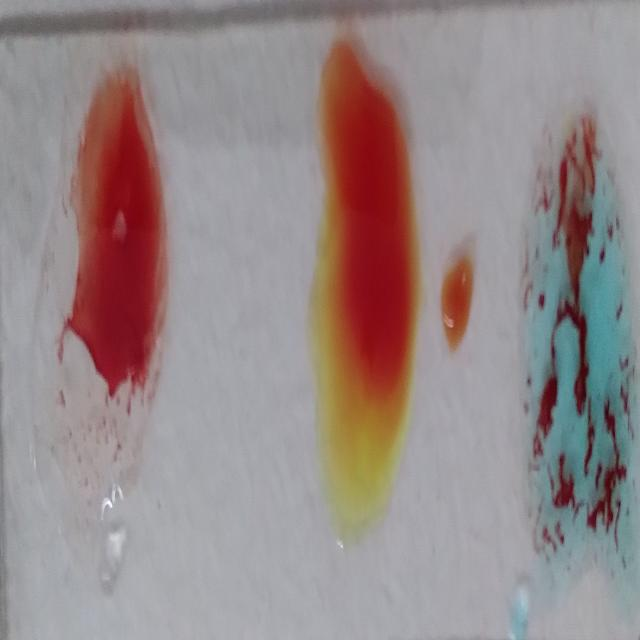A: (517, 106, 635, 588)
D: (25, 73, 173, 549)
